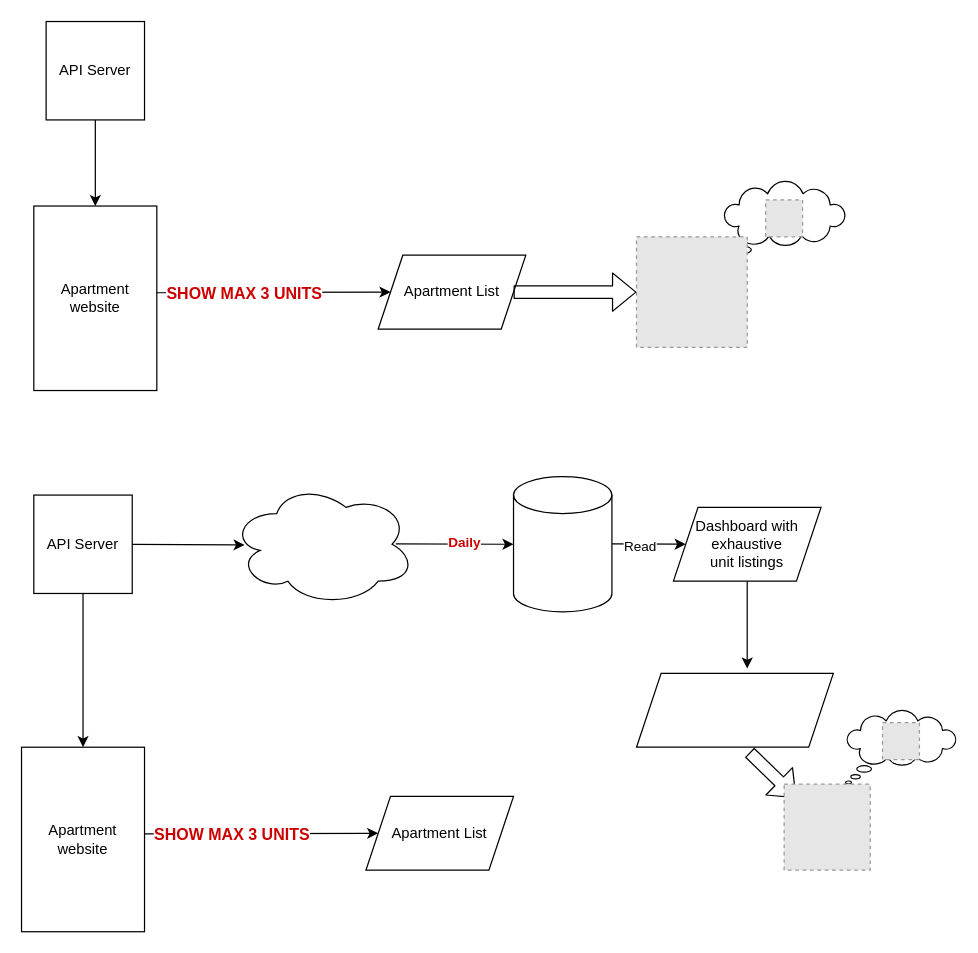
This 978x953 diagram has some shape labels left out. Grey dashed boxes stand in for pictures. The shapes that lost their labels are listed below. From the top down, each one's centre as x and y in pixels, then its label:
At (x=322, y=544): "Heroku App scraping all available units".
At (x=562, y=543): "Store in Google BigTable".
At (x=734, y=709): "Insights on daily price change, units available, etc.".
